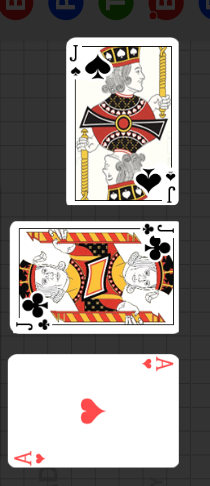7S: (67, 44, 81, 78)
AH: (140, 357, 175, 373)
JC: (140, 222, 175, 237)
